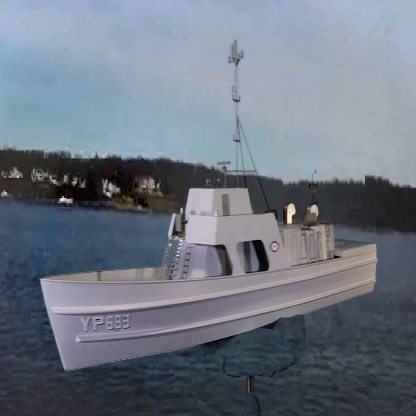YP689: (38, 42, 379, 375)
